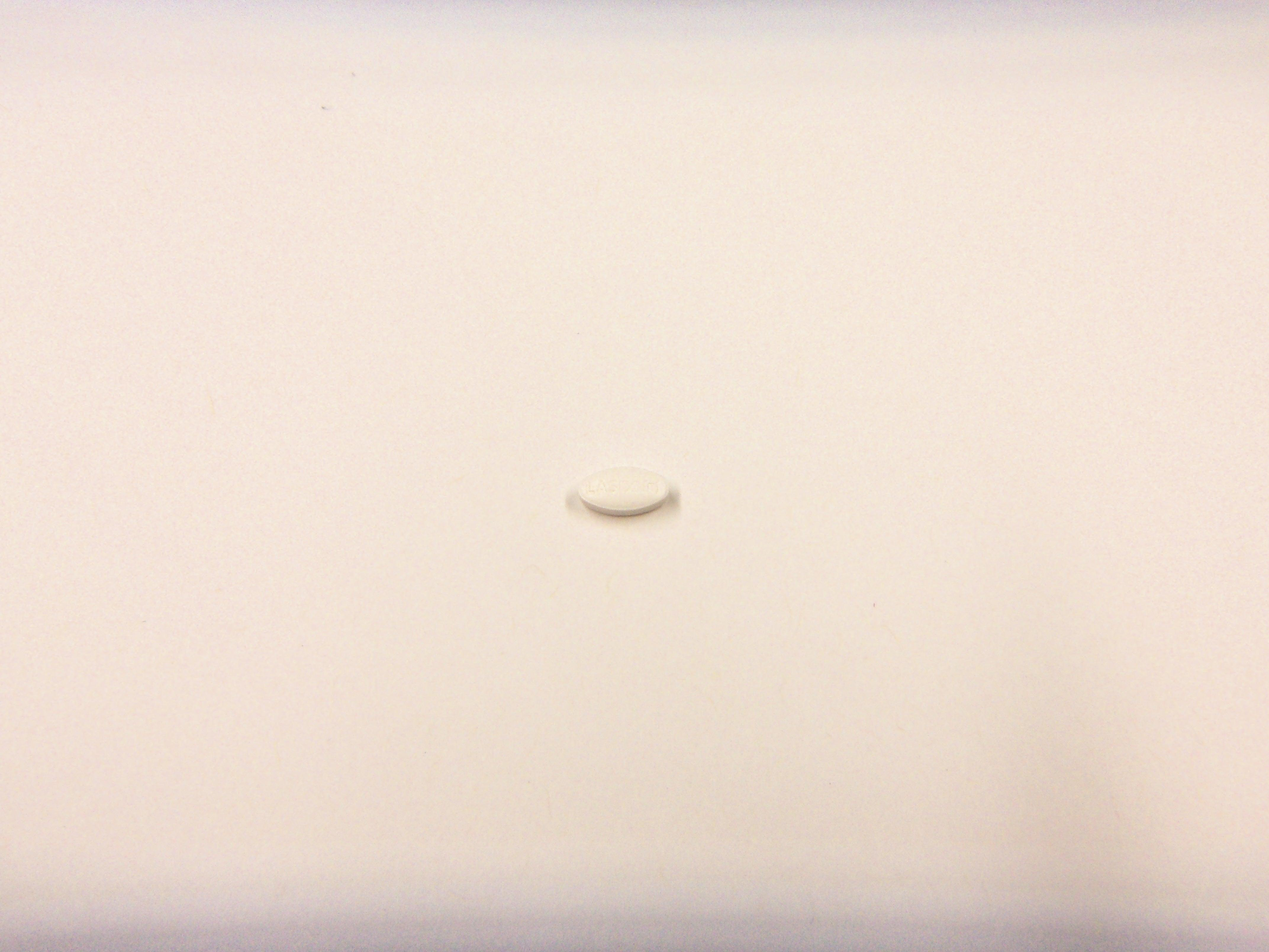Pill: (571, 459, 676, 522)
